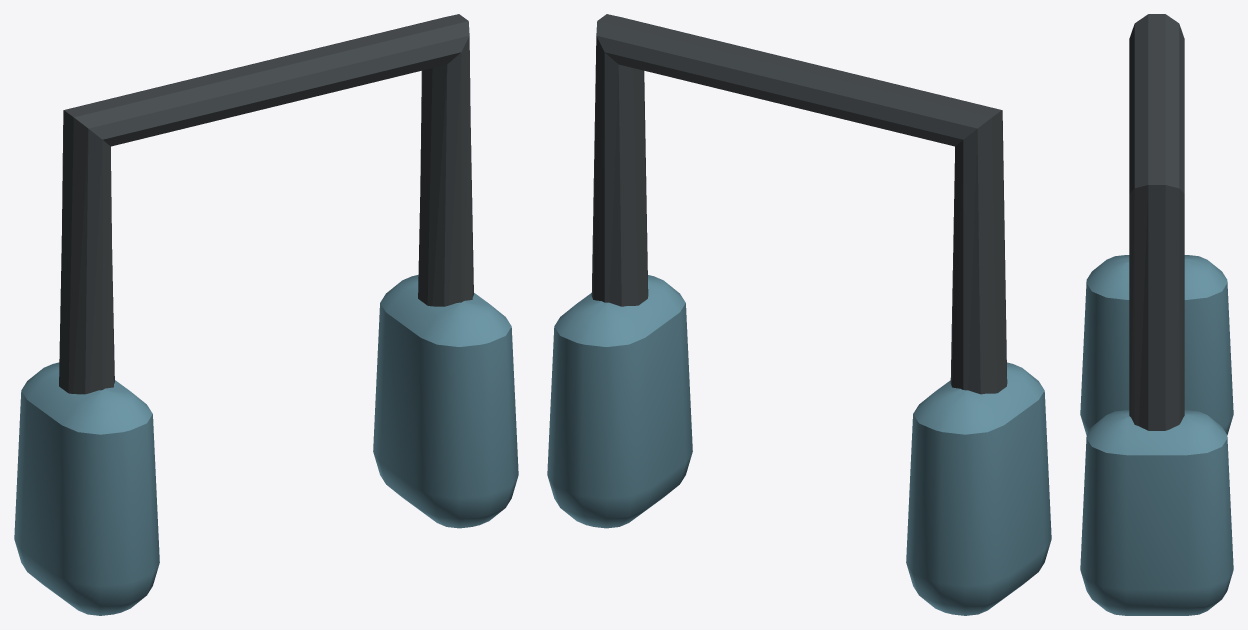
Rendered from endurance-and-gt-paddock-ear-defender-headset-be5b516f__14954.glb.
The picture shows the model from 3 angles, left to right: view 1: azimuth 30°, elevation 25°; view 2: azimuth 150°, elevation 25°; view 3: azimuth 270°, elevation 25°; orthographic projection. The views are drawn at different scales.
Parts seen in each view (by area): view 1: ear-defender-headset; view 2: ear-defender-headset; view 3: ear-defender-headset.
Part boxes in pixels (<box>): ear-defender-headset: <box>14,14,518,615</box>; ear-defender-headset: <box>547,14,1051,615</box>; ear-defender-headset: <box>1080,14,1233,615</box>.
Size of the model in its own units: 0.305 by 0.3121 by 0.1.
